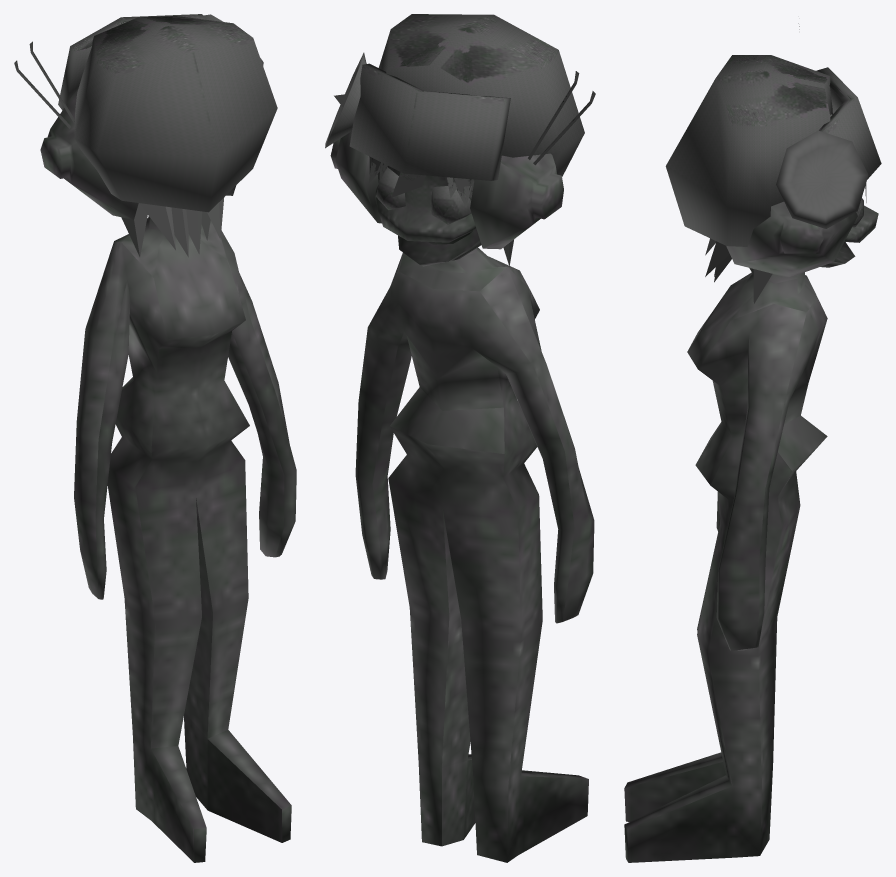
File: FakePomp.glb
3 views of the same model, side by side, from view 1: azimuth 30°, elevation 25°; view 2: azimuth 150°, elevation 25°; view 3: azimuth 270°, elevation 25° (orthographic). The views are drawn at different scales.
Visible parts, largest first — view 1: Body, Head; view 2: Body, Head; view 3: Body, Head.
Part boxes in pixels (x1=…): Body: x1=74, y1=216, x2=296, y2=862; Head: x1=14, y1=14, x2=277, y2=257; Body: x1=355, y1=247, x2=594, y2=862; Head: x1=325, y1=14, x2=595, y2=266; Body: x1=624, y1=268, x2=827, y2=862; Head: x1=665, y1=23, x2=881, y2=303.
Size of the model in its own units: 0.255 by 0.7673 by 0.2332.
2 materials, 2 textured.
